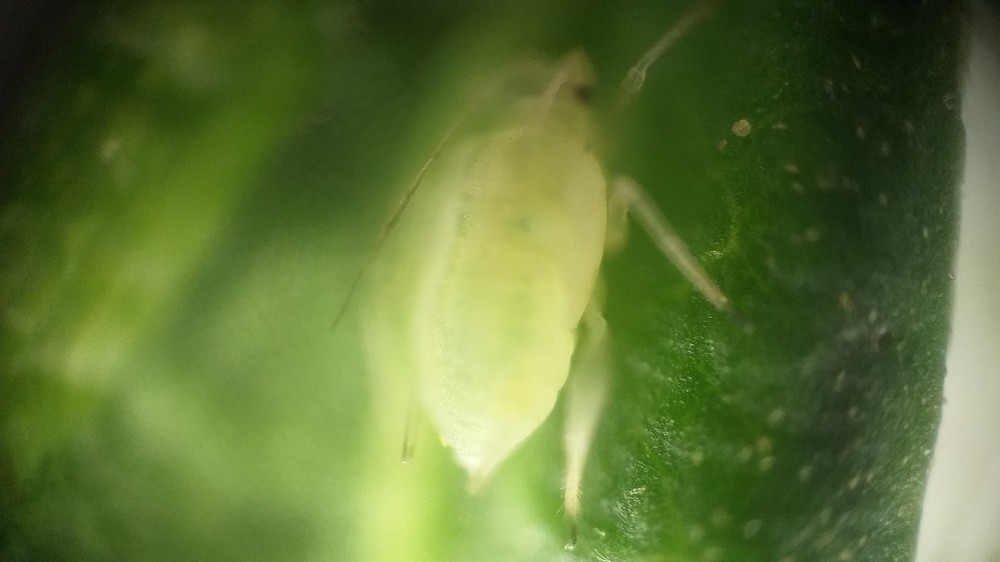Pulgon: (328, 17, 777, 551)
